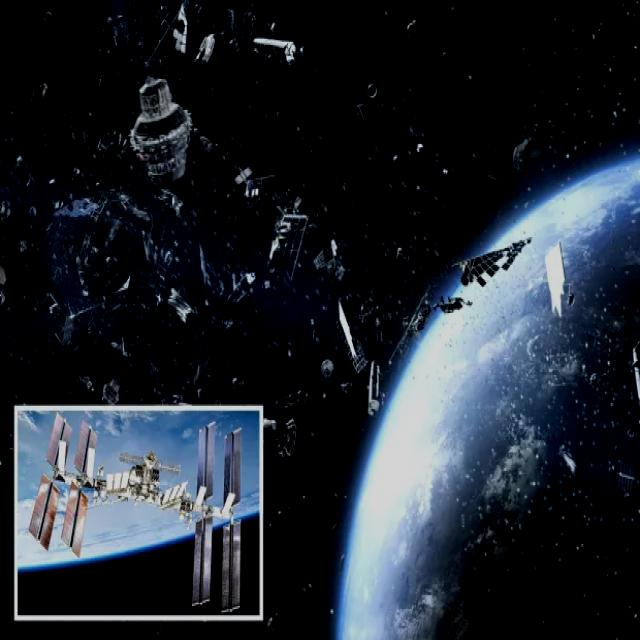large_debris: (94, 55, 230, 214)
